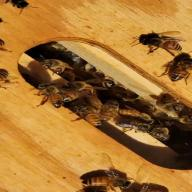Bee: (79, 166, 134, 188), (154, 53, 192, 83), (136, 31, 188, 52), (37, 84, 69, 108), (77, 106, 109, 128)
